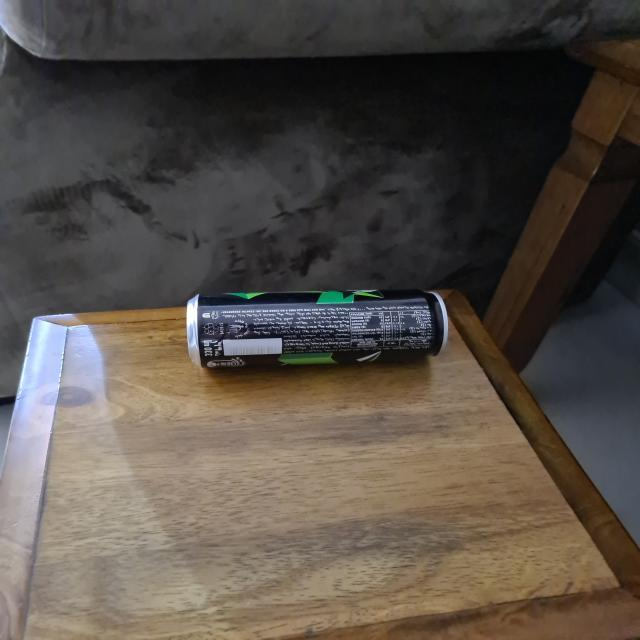can: (178, 281, 447, 375)
